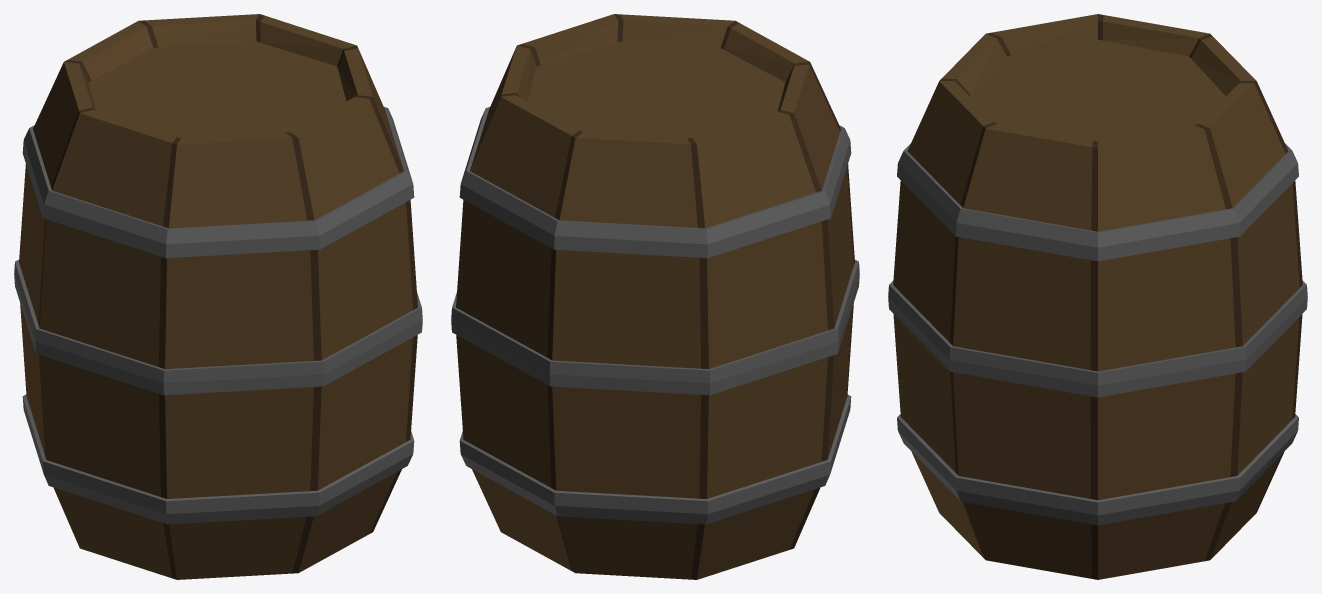
The model's file is Barrel.glb.
3 renders of one model, left to right at view 1: azimuth 30°, elevation 25°; view 2: azimuth 150°, elevation 25°; view 3: azimuth 270°, elevation 25°, orthographic.
Parts seen in each view (by area): view 1: world; view 2: world; view 3: world.
Boxes of the visible parts, x1,y1,x2,y2 form: world: [14, 14, 422, 579]; world: [451, 14, 859, 579]; world: [888, 14, 1307, 579].
Size of the model in its own units: 156 by 177 by 156.
